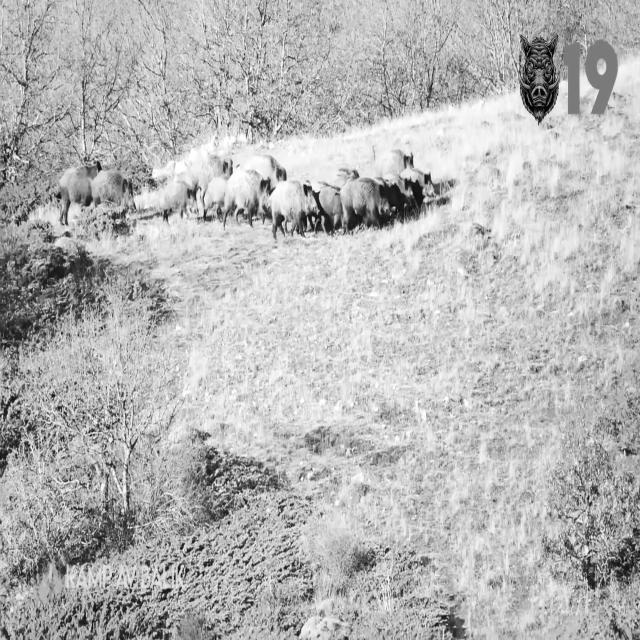boar: (161, 150, 434, 238), (60, 169, 135, 208)
